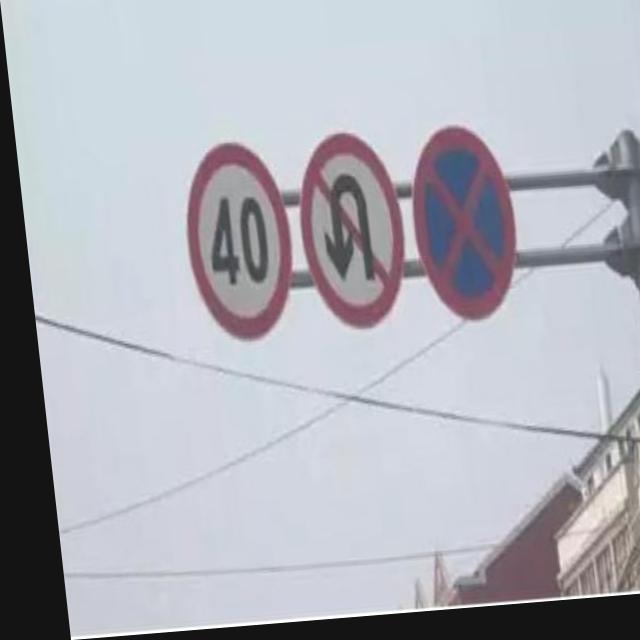limit40: (165, 144, 299, 353)
not_turn_left: (289, 131, 410, 341)
